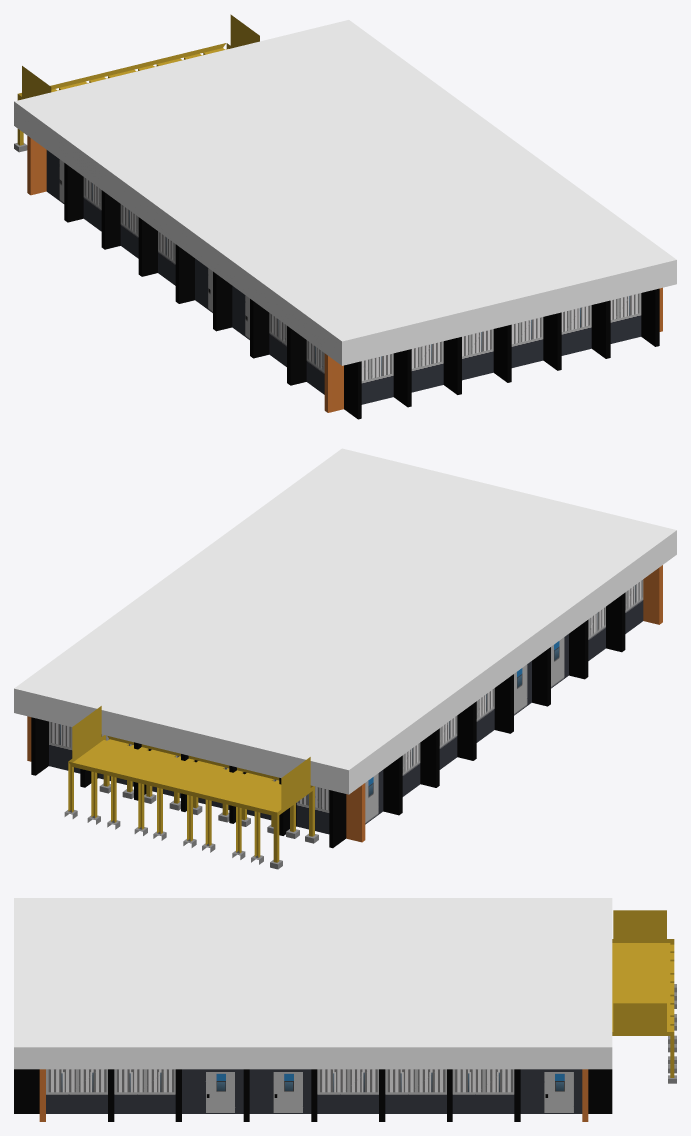
The model's file is EDIF_22.fbx.
The picture shows the model from 3 angles, top to bottom: view 1: azimuth 30°, elevation 25°; view 2: azimuth 150°, elevation 25°; view 3: azimuth 270°, elevation 25°; orthographic projection. The views are drawn at different scales.
Parts seen in each view (by area): view 1: edif_22; view 2: edif_22; view 3: edif_22.
Part boxes in pixels (bbox=[...]): edif_22: bbox=[14, 14, 676, 419]; edif_22: bbox=[14, 448, 676, 869]; edif_22: bbox=[14, 898, 676, 1121].
Bounding box in the file's own units: 2245 × 557 × 4221.
